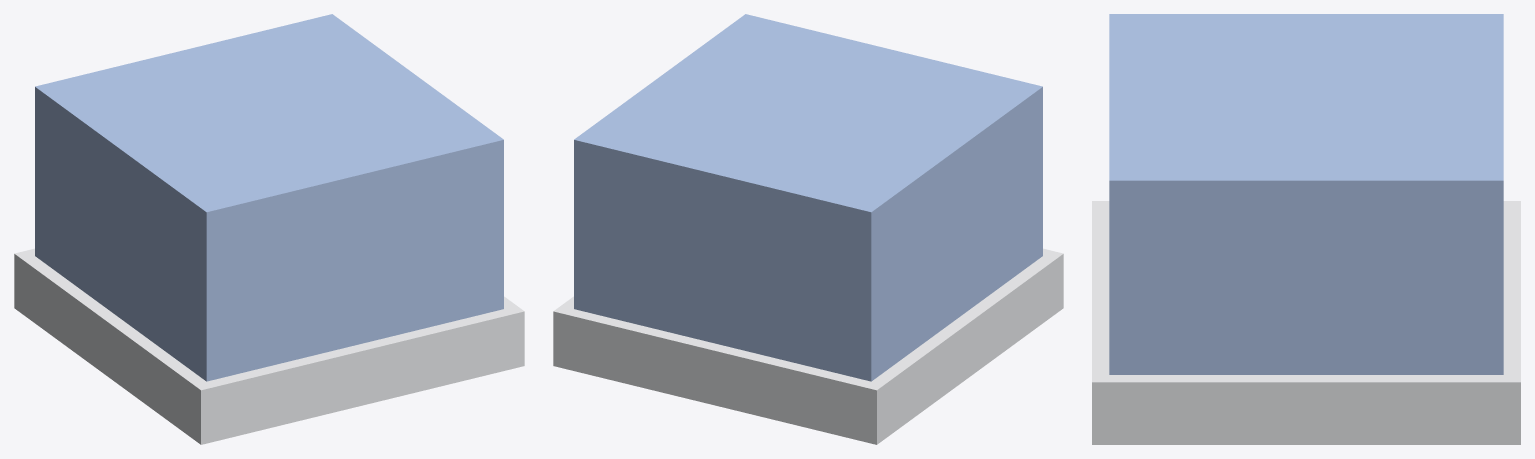
File: pijama_manga_inf.glb
3 renders of one model, left to right at view 1: azimuth 30°, elevation 25°; view 2: azimuth 150°, elevation 25°; view 3: azimuth 270°, elevation 25°, orthographic. The views are drawn at different scales.
Parts seen in each view (by area): view 1: pijama_manga_inf; view 2: pijama_manga_inf; view 3: pijama_manga_inf.
Boxes of the visible parts, x1=… form: pijama_manga_inf: x1=14, y1=14, x2=524, y2=444; pijama_manga_inf: x1=553, y1=14, x2=1063, y2=444; pijama_manga_inf: x1=1092, y1=14, x2=1520, y2=444.
Size of the model in its own units: 0.31 by 0.21 by 0.31.
